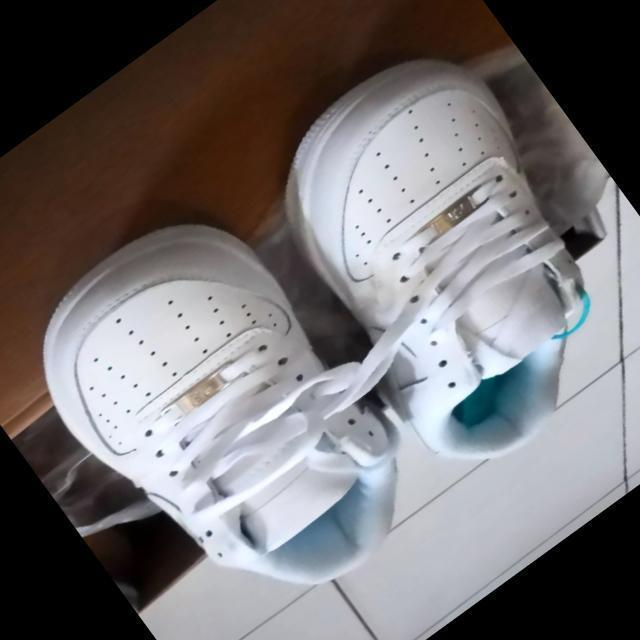nike fake air force: (0, 174, 454, 640), (215, 18, 640, 505)
